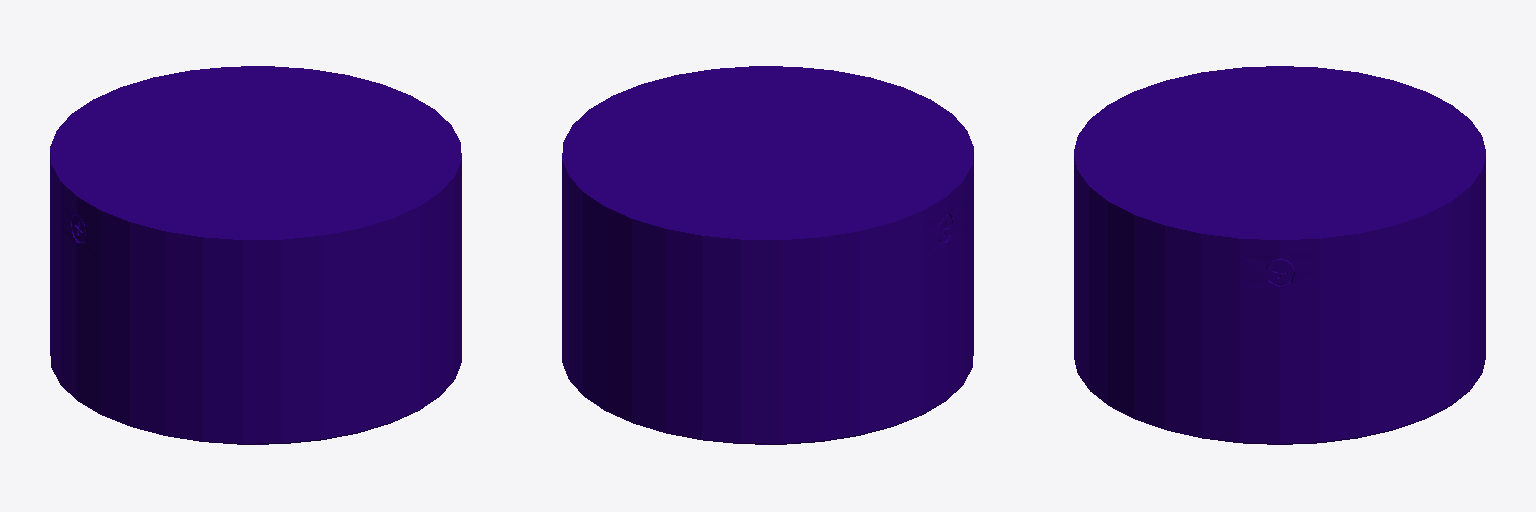
File: 21392x_Zolla_Lightstar.obj
3 renders of one model, left to right at view 1: azimuth 30°, elevation 25°; view 2: azimuth 150°, elevation 25°; view 3: azimuth 270°, elevation 25°, orthographic.
Parts seen in each view (by area): view 1: Cylinder002; view 2: Cylinder002; view 3: Cylinder002.
Part boxes in pixels (bbox=[...]): Cylinder002: bbox=[50, 66, 461, 444]; Cylinder002: bbox=[562, 66, 973, 444]; Cylinder002: bbox=[1074, 66, 1485, 444].
Size of the model in its own units: 100 by 55 by 100.